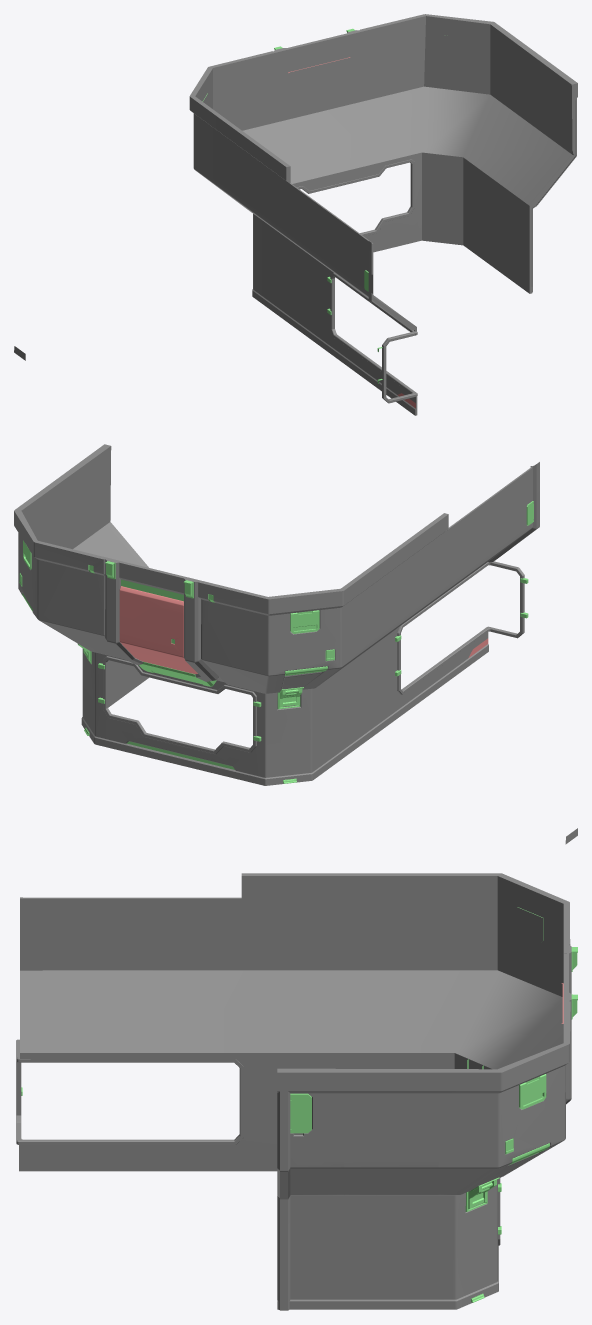
Rendered from S_Envi_FZFBase_Policeroom_02a.gltf.
3 views of the same model, one above another, from view 1: azimuth 30°, elevation 25°; view 2: azimuth 150°, elevation 25°; view 3: azimuth 270°, elevation 25° (orthographic). The views are drawn at different scales.
Visible parts, largest first — view 1: S_Envi_FZFBase_Policeroom_02a; view 2: S_Envi_FZFBase_Policeroom_02a; view 3: S_Envi_FZFBase_Policeroom_02a.
Boxes of the visible parts, box(x1,y1,x2,y2) form: S_Envi_FZFBase_Policeroom_02a: box(14, 14, 577, 415); S_Envi_FZFBase_Policeroom_02a: box(14, 444, 577, 844); S_Envi_FZFBase_Policeroom_02a: box(16, 873, 577, 1310).
Bounding box in the file's own units: 25.71 × 9.87 × 18.91.
